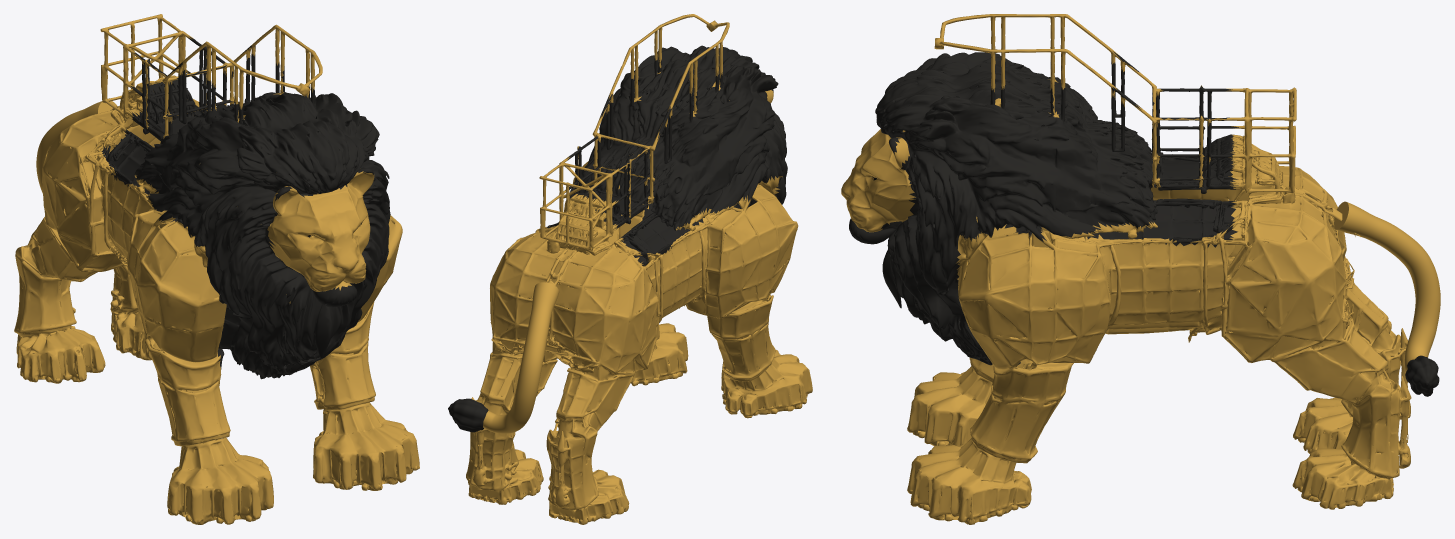
Rendered from gloria-lion-near-v1.glb.
The picture shows the model from 3 angles, left to right: view 1: azimuth 30°, elevation 25°; view 2: azimuth 150°, elevation 25°; view 3: azimuth 270°, elevation 25°; orthographic projection. The views are drawn at different scales.
Parts seen in each view (by area): view 1: world, Reference 005 estimated curved gold tail; view 2: world, Reference 005 estimated curved gold tail, Reference 005 estimated grooved dark tuft; view 3: world, Reference 005 estimated curved gold tail, Reference 005 estimated grooved dark tuft.
Boxes of the visible parts, x1,y1,x2,y2 form: world: (14, 14, 419, 524); Reference 005 estimated curved gold tail: (36, 101, 117, 193); world: (466, 14, 812, 524); Reference 005 estimated curved gold tail: (483, 282, 559, 433); Reference 005 estimated grooved dark tuft: (448, 398, 488, 432); world: (841, 14, 1411, 524); Reference 005 estimated curved gold tail: (1334, 201, 1440, 371); Reference 005 estimated grooved dark tuft: (1405, 355, 1439, 396).
Size of the model in its own units: 0.5129 by 0.837 by 1.05.
